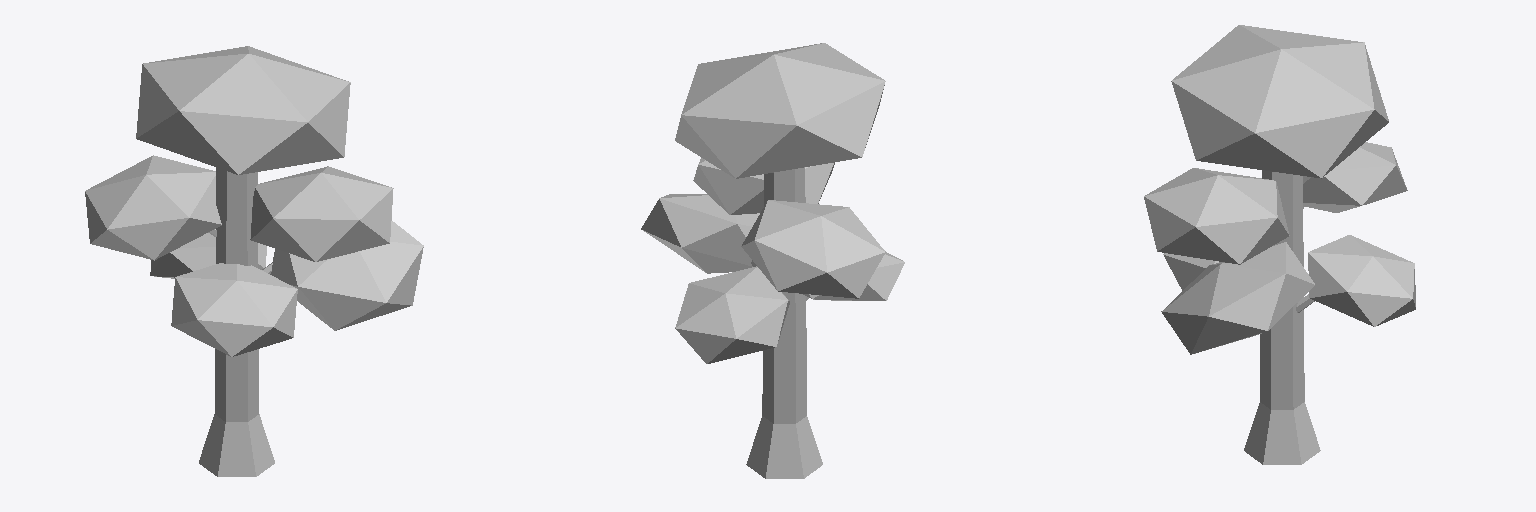
Rendered from tree1_2LP.obj.
The picture shows the model from 3 angles: view 1: azimuth 30°, elevation 25°; view 2: azimuth 150°, elevation 25°; view 3: azimuth 270°, elevation 25°; orthographic projection.
Parts seen in each view (by area): view 1: Icosphere.001, wood.002_Cylinder.009; view 2: Icosphere.001, wood.002_Cylinder.009; view 3: Icosphere.001, wood.002_Cylinder.009.
Boxes of the visible parts, box(x1,y1,x2,y2) form: Icosphere.001: box(85, 46, 423, 356); wood.002_Cylinder.009: box(199, 168, 274, 476); Icosphere.001: box(641, 43, 904, 363); wood.002_Cylinder.009: box(746, 167, 822, 478); Icosphere.001: box(1144, 25, 1415, 354); wood.002_Cylinder.009: box(1244, 170, 1320, 464).
Size of the model in its own units: 1.95 by 2.85 by 1.73.